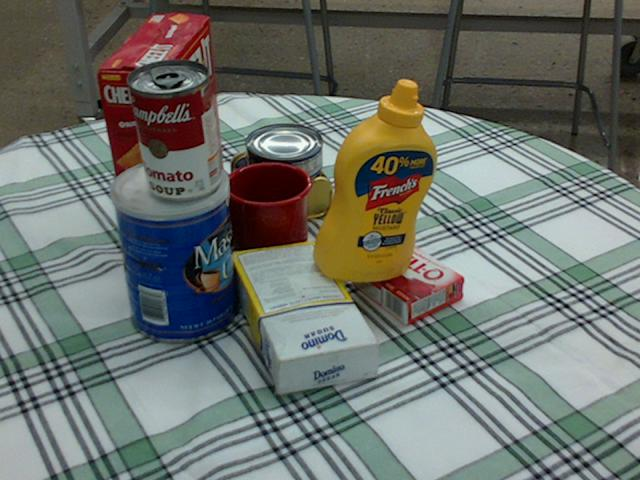cracker_box: (95, 15, 224, 268)
gelatin_box: (350, 240, 462, 325)
master_chef_can: (108, 157, 238, 343)
mug: (198, 160, 310, 266)
mustard_bottle: (313, 78, 436, 281)
potted_meat_can: (226, 141, 328, 222)
sugar_box: (229, 240, 381, 391)
tomato_soup_can: (127, 58, 220, 199)
tuna_fish_can: (244, 124, 322, 185)
